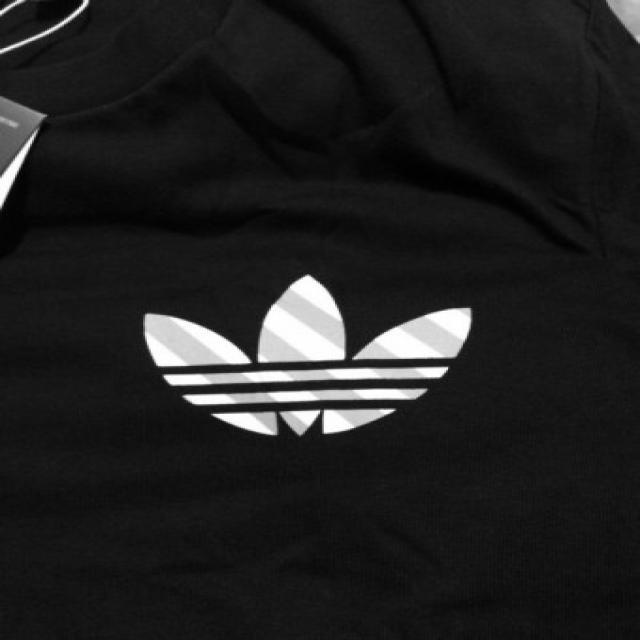Adidas: (117, 263, 492, 451)
